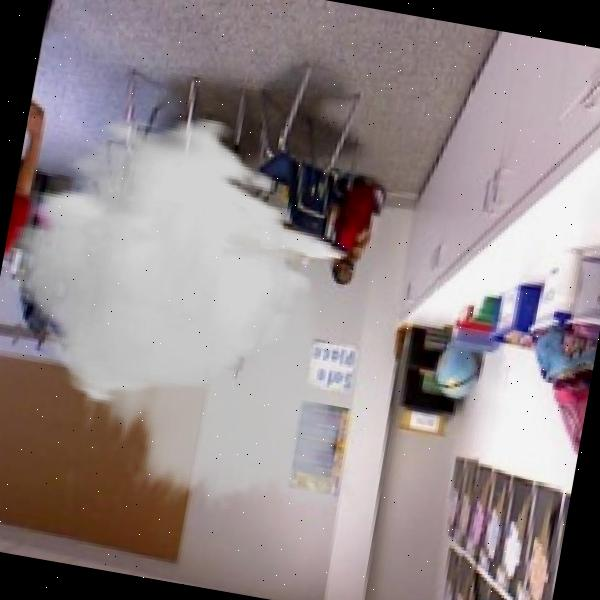smoke: (0, 86, 422, 540)
